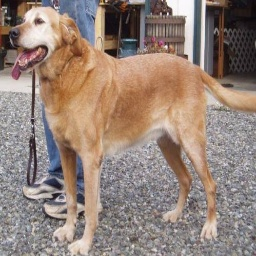dog: (7, 4, 247, 251)
